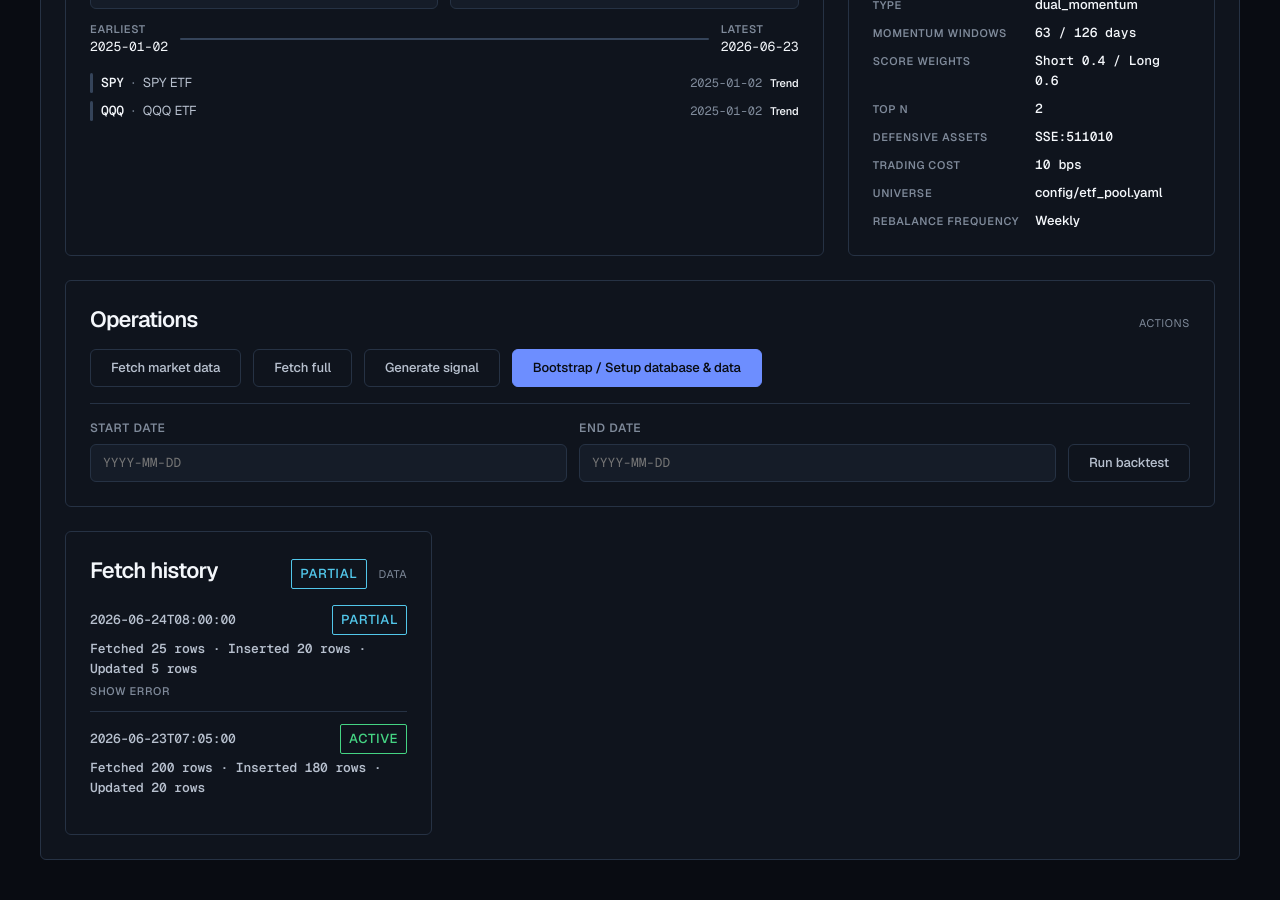
Test: loads dashboard aggregate data through the shared client
(page scrolled)
Expected: the text "Earliest" is shown, x1=90 y1=22 x2=146 y2=36
Expected: the text "2025-01-02" below "Earliest" is shown, x1=90 y1=38 x2=168 y2=55
Step 1. Click the heading "Show error" → [130, 691], box x1=90 y1=684 x2=170 y2=698
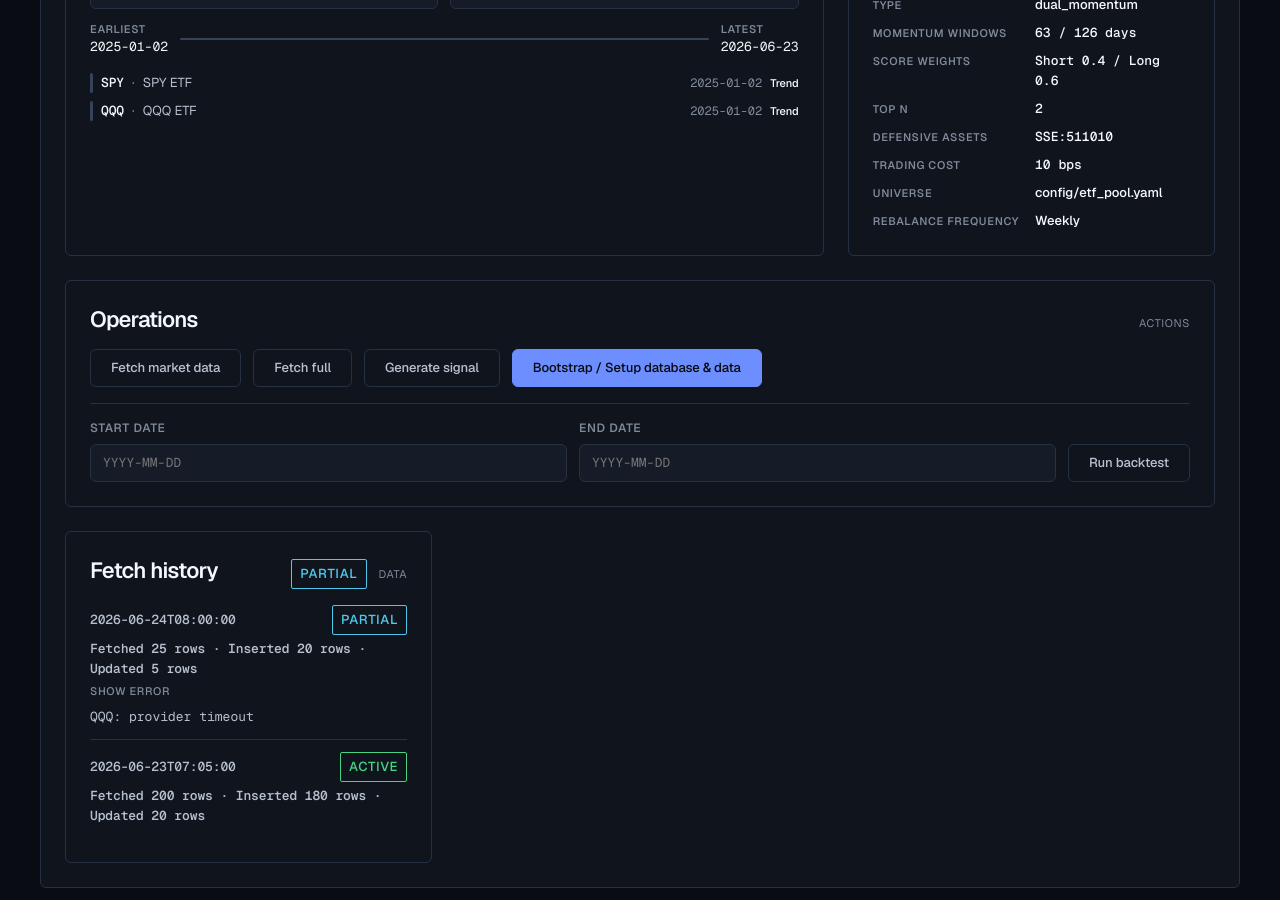
Expected: the text "2026-06-23T07:05:00" is shown, x1=90 y1=757 x2=236 y2=777
Result: the text "QQQ: provider timeout" is shown at x1=90 y1=708 x2=254 y2=725
